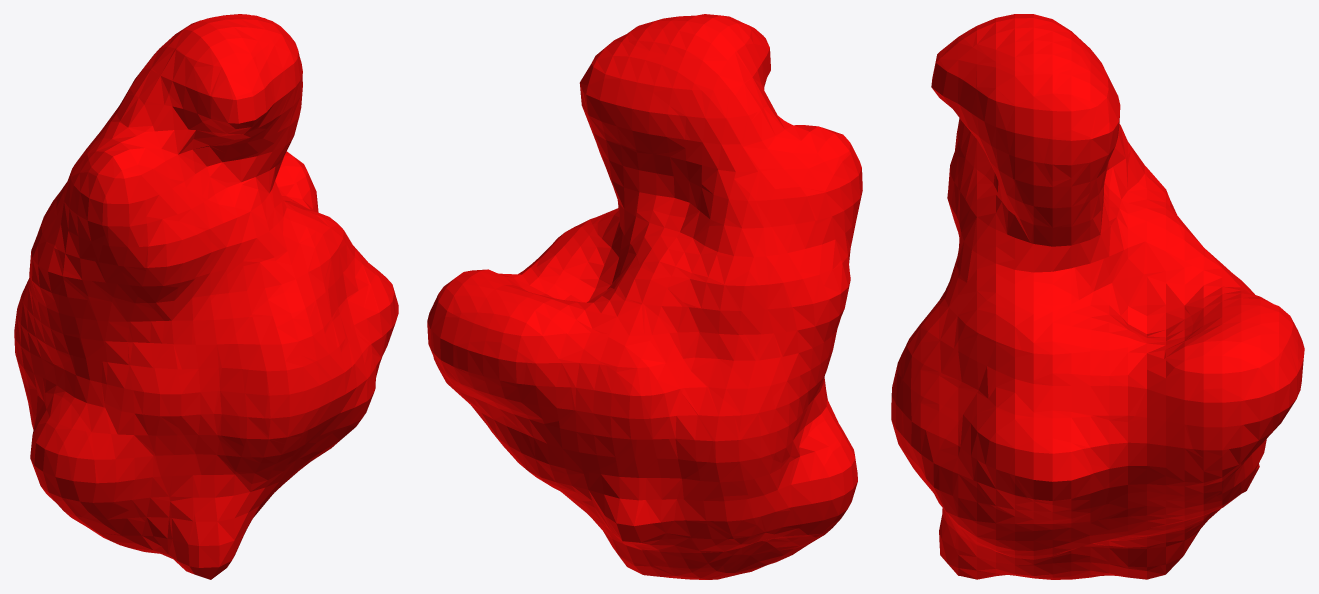
Rendered from uspG_coarse.dae.
The picture shows the model from 3 angles, left to right: view 1: azimuth 30°, elevation 25°; view 2: azimuth 150°, elevation 25°; view 3: azimuth 270°, elevation 25°; orthographic projection. The views are drawn at different scales.
Parts seen in each view (by area): view 1: uspG; view 2: uspG; view 3: uspG.
Boxes of the visible parts, box(x1,y1,x2,y2) form: uspG: box(14, 14, 398, 579); uspG: box(427, 14, 862, 579); uspG: box(891, 14, 1304, 579).
Size of the model in its own units: 40.01 by 57.24 by 37.24.
